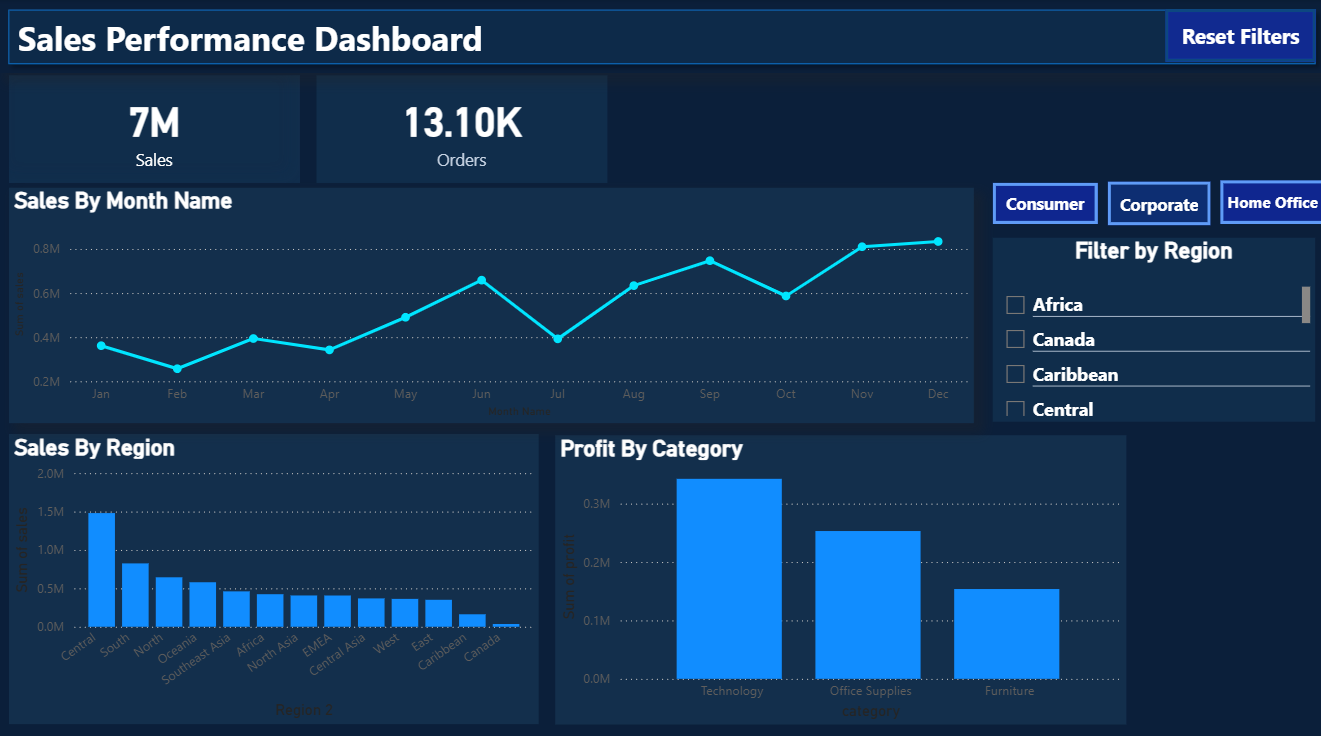

What the dashboard file says about the page in this screenshot:
{"tool":"powerbi","page":{"name":"Page 1","canvas":[1280,720],"ordinal":0},"visuals":[{"type":"card","fields":{"Values":["Sum(Super Store Orders DATA.sales)"]},"box":[9.9,73.2,280.5,104.3],"z":0},{"type":"card","fields":{"Values":["Count(Super Store Orders DATA.order_id)"]},"box":[306.6,73.2,280.5,104.3],"z":1000},{"type":"clusteredColumnChart","title":"Sales By Region ","fields":{"Category":["Super Store Orders DATA.region"],"Y":["Sum(Super Store Orders DATA.sales)"]},"box":[9.3,419.4,511.1,280],"z":2000},{"type":"clusteredColumnChart","title":"Profit By Category","fields":{"Category":["Super Store Orders DATA.category"],"Y":["Sum(Super Store Orders DATA.profit)"]},"box":[536.8,421.4,550.9,279.1],"z":3000},{"type":"lineChart","title":"Sales By Month Name","fields":{"Category":["Super Store Orders DATA.Month Name"],"Y":["Sum(Super Store Orders DATA.sales)"]},"box":[9.7,182.2,931.4,226.8],"z":5000},{"type":"actionButton","box":[1070,176.3,99.3,42.2],"z":6000},{"type":"actionButton","box":[959.1,177.3,101.3,39.8],"z":7000},{"type":"actionButton","box":[1178.7,174.9,101.3,42.2],"z":8000},{"type":"slicer","fields":{"Values":["Super Store Orders DATA.segment"]},"box":[29.8,23.6,12.4,12.4],"z":9000},{"type":"shape","box":[0,1.2,1279.8,70.8],"z":10000},{"type":"actionButton","box":[1125.8,9.9,145.2,50.9],"z":11000},{"type":"slicer","title":"Filter by Region","fields":{"Values":["Super Store Orders DATA.region"]},"box":[959.1,230.4,311.3,177.3],"z":11001}]}

Visuals, with their boxes in screenshot pixels (x1, y1, x2, y2), scaled from the page's 1280x720 canvas onto the 1321x736 screenshot:
card - Sum(Super Store Orders DATA.sales): 10:75:300:181
card - Count(Super Store Orders DATA.order_id): 316:75:606:181
"Sales By Region " clusteredColumnChart: 10:429:537:715
"Profit By Category" clusteredColumnChart: 554:431:1123:716
"Sales By Month Name" lineChart: 10:186:971:418
actionButton: 1104:180:1207:223
actionButton: 990:181:1094:222
actionButton: 1216:179:1320:222
slicer - Super Store Orders DATA.segment: 31:24:44:37
shape: 0:1:1320:74
actionButton: 1162:10:1312:62
"Filter by Region" slicer: 990:236:1311:417
